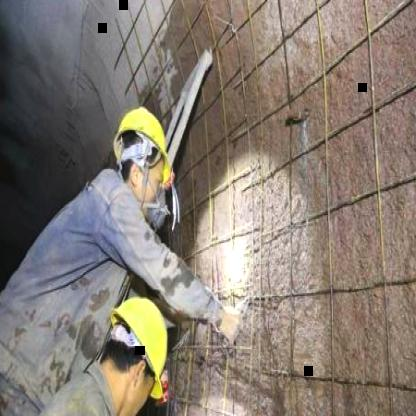helmet: (108, 296, 174, 408), (113, 99, 174, 186)
